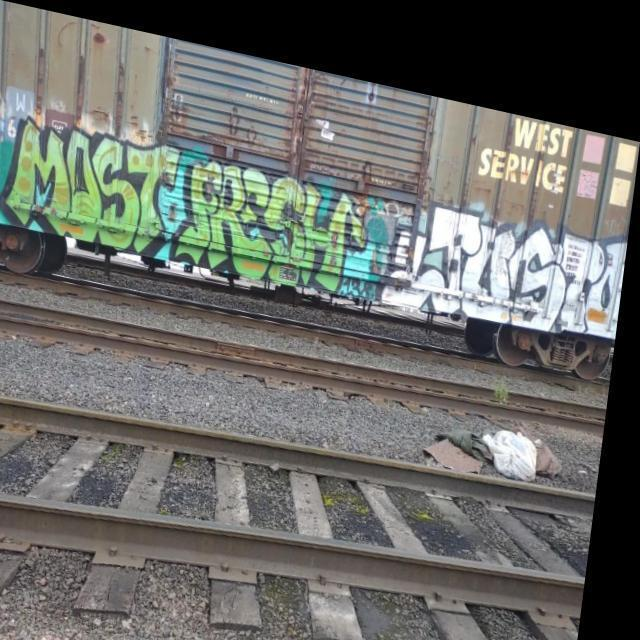-: (380, 175, 630, 342), (174, 144, 383, 298), (6, 108, 192, 258), (465, 84, 640, 190), (0, 88, 40, 150)
